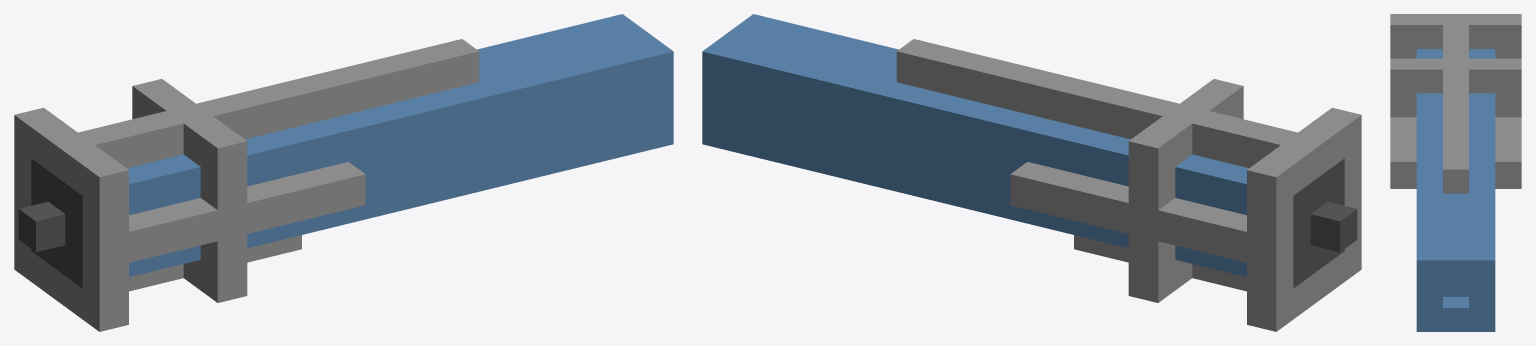
Rendered from WeaponBarrel#1.obj.
3 views of the same model, side by side, from view 1: azimuth 30°, elevation 25°; view 2: azimuth 150°, elevation 25°; view 3: azimuth 270°, elevation 25° (orthographic). The views are drawn at different scales.
Bounding box in the file's own units: 2.1 × 0.5 × 0.5.
Materials: 1 (1 with a texture image).
